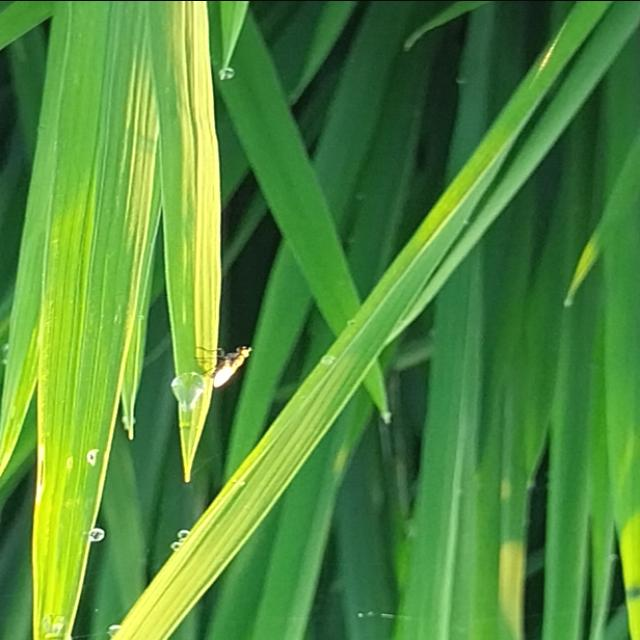healthy: (182, 312, 266, 414)
